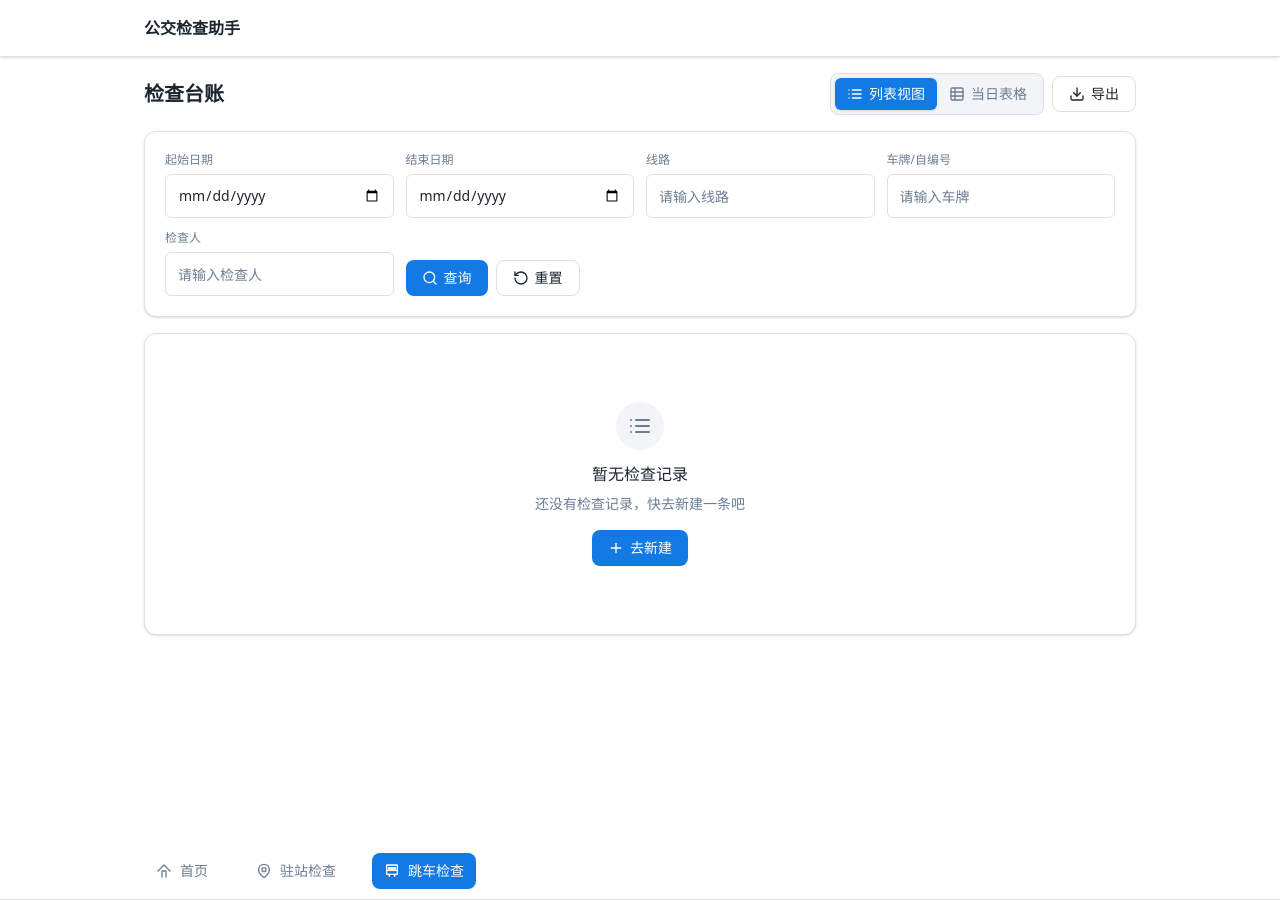
Test: 应用冒烟测试 › 跳车台账页可进入数据导出页
What coordinates should you click on to do the following:
click the button "导出"
I would click on:
 (1094, 94)
Its box is x1=1052 y1=76 x2=1136 y2=112.
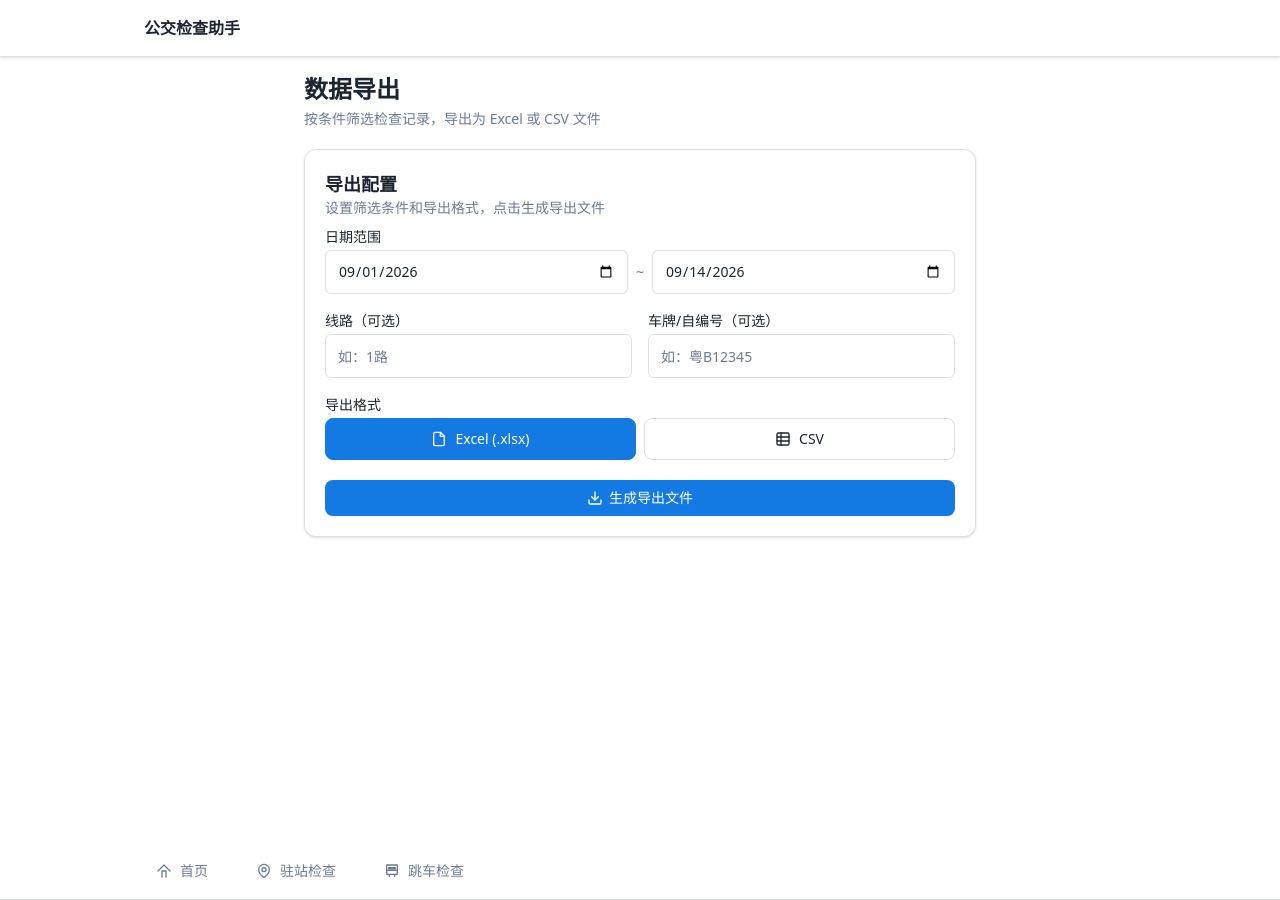
Expected: the heading "数据导出" is shown, x1=304 y1=72 x2=400 y2=105
